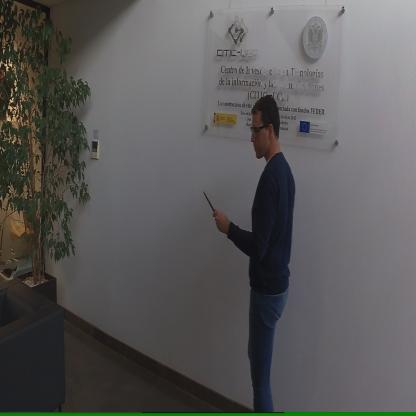knife: (200, 186, 220, 221)
